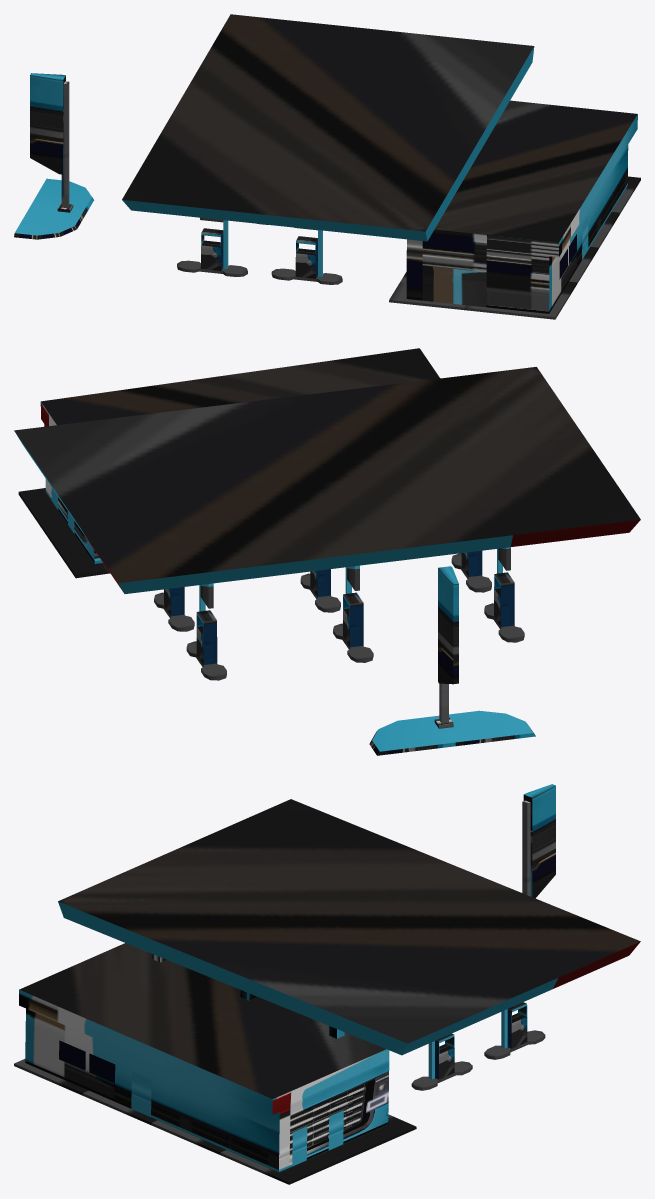
Rendered from Petrol Pum.fbx.
3 renders of one model, top to bottom at view 1: azimuth 30°, elevation 25°; view 2: azimuth 150°, elevation 25°; view 3: azimuth 270°, elevation 25°, orthographic. The views are drawn at different scales.
Visible parts, largest first — view 1: polySurface4, polySurface1; view 2: polySurface4, polySurface1; view 3: polySurface4, polySurface1.
Boxes of the visible parts, left/top/right/bottom form: polySurface4: left=122, top=14, right=640, bottom=319; polySurface1: left=14, top=73, right=93, bottom=239; polySurface4: left=14, top=348, right=640, bottom=680; polySurface1: left=369, top=566, right=535, bottom=755; polySurface4: left=14, top=799, right=640, bottom=1184; polySurface1: left=522, top=784, right=555, bottom=898.
Bounding box in the file's own units: 5900 × 1438 × 5641.
